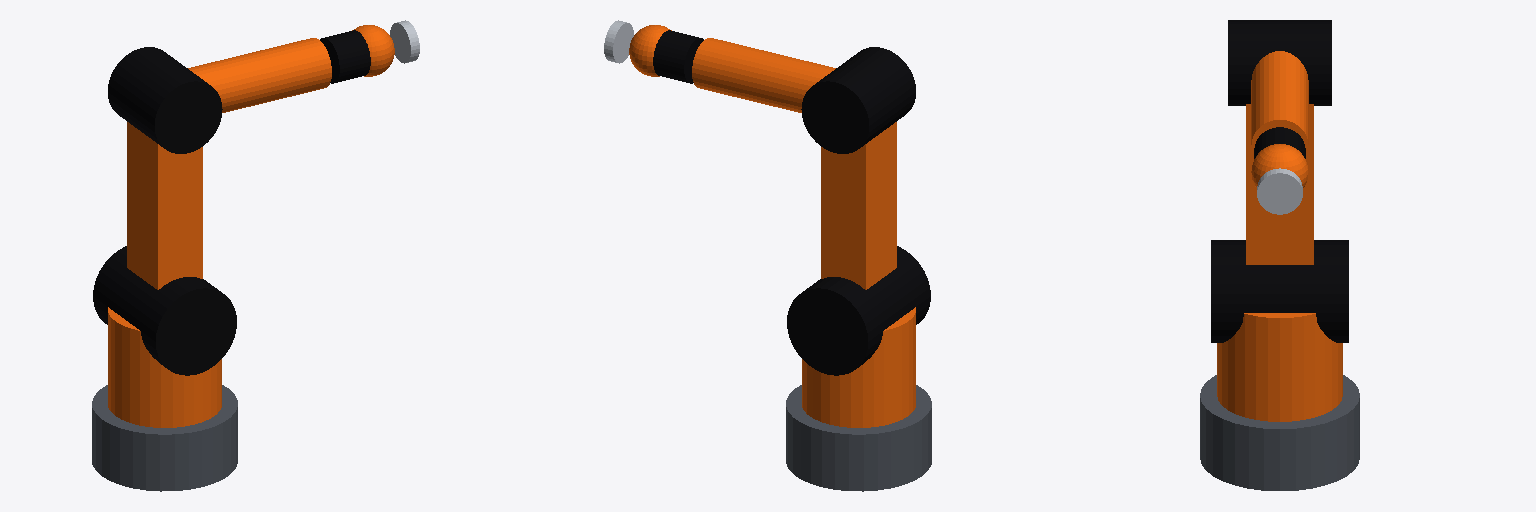
URDF robot description (six_axis_arm):
<?xml version="1.0"?>
<!-- A six-axis arm drawn with primitives only (box, cylinder, sphere). Written for File Preview's
     samples (MIT). Dimensions are made up; they do not describe a real product. -->
<robot name="six_axis_arm">
  <material name="base_grey"><color rgba="0.35 0.37 0.40 1"/></material>
  <material name="arm_orange"><color rgba="0.95 0.45 0.10 1"/></material>
  <material name="joint_black"><color rgba="0.08 0.08 0.09 1"/></material>

  <link name="world"/>
  <joint name="world_to_base" type="fixed">
    <parent link="world"/>
    <child link="base_link"/>
    <origin xyz="0 0 0" rpy="0 0 0"/>
  </joint>

  <link name="base_link">
    <visual>
      <origin xyz="0 0 0.06"/>
      <geometry><cylinder radius="0.14" length="0.12"/></geometry>
      <material name="base_grey"/>
    </visual>
    <collision>
      <origin xyz="0 0 0.06"/>
      <geometry><cylinder radius="0.15" length="0.12"/></geometry>
    </collision>
    <inertial><mass value="8.0"/><inertia ixx="0.05" ixy="0" ixz="0" iyy="0.05" iyz="0" izz="0.08"/></inertial>
  </link>

  <joint name="joint_1" type="revolute">
    <parent link="base_link"/>
    <child link="shoulder_link"/>
    <origin xyz="0 0 0.12" rpy="0 0 0"/>
    <axis xyz="0 0 1"/>
    <limit lower="-2.967" upper="2.967" effort="150" velocity="2.0"/>
  </joint>
  <link name="shoulder_link">
    <visual>
      <origin xyz="0 0 0.1"/>
      <geometry><cylinder radius="0.11" length="0.2"/></geometry>
      <material name="arm_orange"/>
    </visual>
    <visual>
      <origin xyz="0 0 0.2" rpy="1.5708 0 0"/>
      <geometry><cylinder radius="0.09" length="0.24"/></geometry>
      <material name="joint_black"/>
    </visual>
    <collision>
      <origin xyz="0 0 0.12"/>
      <geometry><box size="0.24 0.24 0.26"/></geometry>
    </collision>
  </link>

  <joint name="joint_2" type="revolute">
    <parent link="shoulder_link"/>
    <child link="upper_arm_link"/>
    <origin xyz="0 0 0.2" rpy="0 0 0"/>
    <axis xyz="0 1 0"/>
    <limit lower="-1.745" upper="2.356" effort="150" velocity="2.0"/>
  </joint>
  <link name="upper_arm_link">
    <visual>
      <origin xyz="0 0 0.22"/>
      <geometry><box size="0.1 0.12 0.44"/></geometry>
      <material name="arm_orange"/>
    </visual>
    <collision>
      <origin xyz="0 0 0.22"/>
      <geometry><box size="0.12 0.14 0.48"/></geometry>
    </collision>
  </link>

  <joint name="joint_3" type="revolute">
    <parent link="upper_arm_link"/>
    <child link="forearm_link"/>
    <origin xyz="0 0 0.44" rpy="0 0 0"/>
    <axis xyz="0 1 0"/>
    <limit lower="-2.53" upper="2.53" effort="100" velocity="2.5"/>
  </joint>
  <link name="forearm_link">
    <visual>
      <origin xyz="0 0 0" rpy="1.5708 0 0"/>
      <geometry><cylinder radius="0.075" length="0.18"/></geometry>
      <material name="joint_black"/>
    </visual>
    <visual>
      <origin xyz="0.17 0 0" rpy="0 1.5708 0"/>
      <geometry><cylinder radius="0.05" length="0.34"/></geometry>
      <material name="arm_orange"/>
    </visual>
    <collision>
      <origin xyz="0.17 0 0" rpy="0 1.5708 0"/>
      <geometry><cylinder radius="0.06" length="0.38"/></geometry>
    </collision>
  </link>

  <joint name="joint_4" type="revolute">
    <parent link="forearm_link"/>
    <child link="wrist_1_link"/>
    <origin xyz="0.36 0 0" rpy="0 0 0"/>
    <axis xyz="1 0 0"/>
    <limit lower="-3.316" upper="3.316" effort="40" velocity="3.0"/>
  </joint>
  <link name="wrist_1_link">
    <visual>
      <origin xyz="0.04 0 0" rpy="0 1.5708 0"/>
      <geometry><cylinder radius="0.045" length="0.08"/></geometry>
      <material name="joint_black"/>
    </visual>
  </link>

  <joint name="joint_5" type="revolute">
    <parent link="wrist_1_link"/>
    <child link="wrist_2_link"/>
    <origin xyz="0.09 0 0" rpy="0 0 0"/>
    <axis xyz="0 1 0"/>
    <limit lower="-2.094" upper="2.094" effort="40" velocity="3.0"/>
  </joint>
  <link name="wrist_2_link">
    <visual>
      <geometry><sphere radius="0.05"/></geometry>
      <material name="arm_orange"/>
    </visual>
    <collision>
      <geometry><sphere radius="0.055"/></geometry>
    </collision>
  </link>

  <joint name="joint_6" type="revolute">
    <parent link="wrist_2_link"/>
    <child link="flange"/>
    <origin xyz="0.07 0 0" rpy="0 0 0"/>
    <axis xyz="1 0 0"/>
    <limit lower="-6.283" upper="6.283" effort="20" velocity="4.0"/>
  </joint>
  <link name="flange">
    <visual>
      <origin xyz="0.01 0 0" rpy="0 1.5708 0"/>
      <geometry><cylinder radius="0.04" length="0.02"/></geometry>
      <!-- inline colour without a name -->
      <material><color rgba="0.75 0.77 0.80 1"/></material>
    </visual>
  </link>

  <joint name="tool0_joint" type="fixed">
    <parent link="flange"/>
    <child link="tool0"/>
    <origin xyz="0.02 0 0" rpy="0 1.5708 0"/>
  </joint>
  <link name="tool0"/>
</robot>

--- Render facts (derived) ---
The picture shows the robot from 3 angles, left to right: view 1: azimuth 30°, elevation 25°; view 2: azimuth 150°, elevation 25°; view 3: azimuth 270°, elevation 25°; orthographic projection.
Model six_axis_arm with 9 links and 8 joints (6 revolute, 2 fixed), rooted at world, posed every joint at zero.
Links seen in each view (by area): view 1: shoulder_link, forearm_link, upper_arm_link, base_link, wrist_1_link, wrist_2_link, flange; view 2: shoulder_link, forearm_link, upper_arm_link, base_link, wrist_1_link, wrist_2_link, flange; view 3: shoulder_link, base_link, forearm_link, upper_arm_link, flange, wrist_2_link, wrist_1_link.
Link boxes in pixels (<box>): shoulder_link: <box>93,246,236,427</box>; forearm_link: <box>108,38,331,153</box>; upper_arm_link: <box>127,122,202,289</box>; base_link: <box>92,385,237,491</box>; wrist_1_link: <box>320,30,370,83</box>; wrist_2_link: <box>352,25,394,76</box>; flange: <box>390,20,419,63</box>; shoulder_link: <box>787,246,930,427</box>; forearm_link: <box>692,38,915,153</box>; upper_arm_link: <box>821,122,896,289</box>; base_link: <box>786,385,931,491</box>; wrist_1_link: <box>653,30,703,83</box>; wrist_2_link: <box>629,25,671,76</box>; flange: <box>604,20,633,63</box>; shoulder_link: <box>1211,240,1348,421</box>; base_link: <box>1200,375,1359,490</box>; forearm_link: <box>1228,20,1331,154</box>; upper_arm_link: <box>1246,104,1313,264</box>; flange: <box>1257,168,1302,214</box>; wrist_2_link: <box>1251,144,1308,187</box>; wrist_1_link: <box>1254,127,1305,158</box>.
Bounding box of the posed robot: 0.68 × 0.28 × 0.835 m (x, y, z).
Geometry: primitives only (box / cylinder / sphere), no mesh files.
